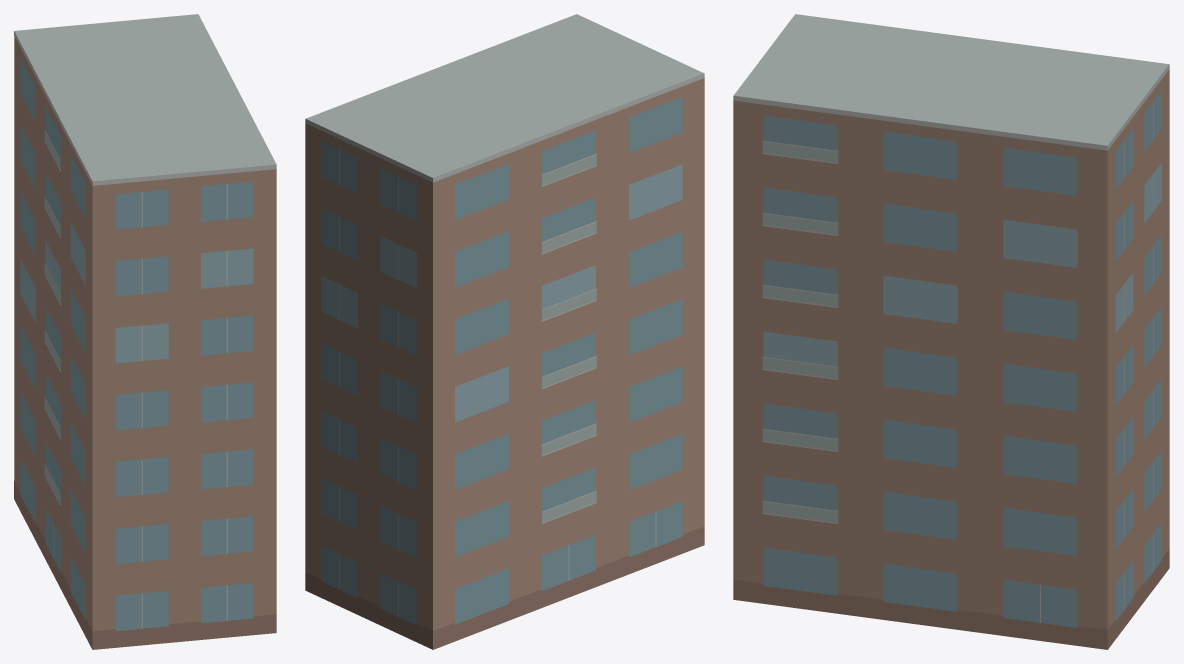
The model's file is survey-upis-32529481.glb.
3 renders of one model, left to right at view 1: azimuth 30°, elevation 25°; view 2: azimuth 150°, elevation 25°; view 3: azimuth 270°, elevation 25°, orthographic. The views are drawn at different scales.
Visible parts, largest first — view 1: survey-upis-32529481.tmp; view 2: survey-upis-32529481.tmp; view 3: survey-upis-32529481.tmp.
Part boxes in pixels (x1,y1,x2,y2): survey-upis-32529481.tmp: [14, 14, 276, 649]; survey-upis-32529481.tmp: [305, 14, 704, 649]; survey-upis-32529481.tmp: [733, 14, 1169, 649].
Size of the model in its own units: 14.2 by 25.3 by 19.84.
